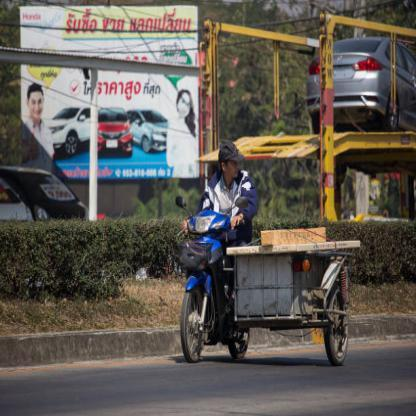Motorcycle: (173, 201, 235, 365)
